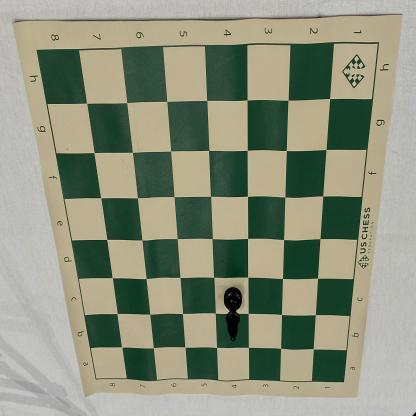black-bishop: (223, 286, 243, 342)
